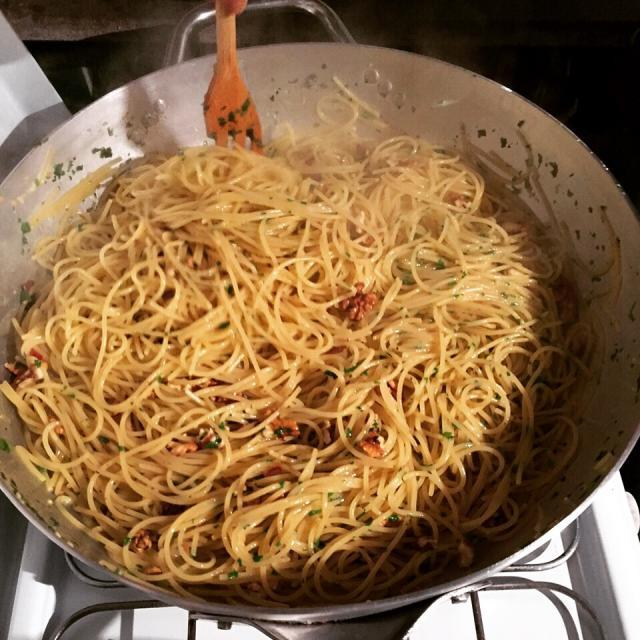Oil pasta: (16, 74, 606, 590)
